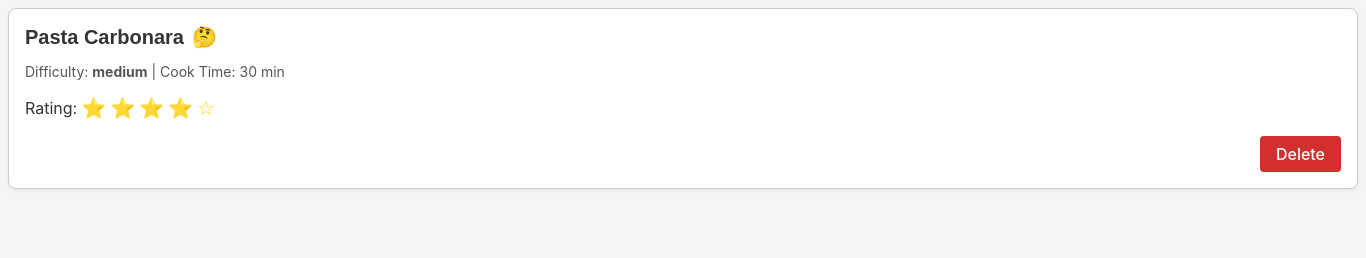
it: RecipeCard › should toggle description on click
Expected: the text "Delicious creamy pasta" is not shown
Click the element that starts with "Pasta Carbonara" at (683,98), box [8, 8, 1358, 189]
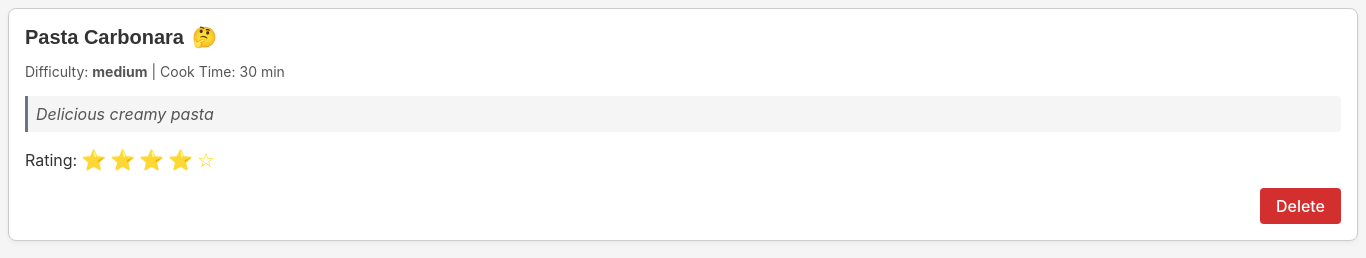
Expected: the text "Delicious creamy pasta" is shown, [25, 96, 1341, 132]
Click the element that starts with "Pasta Carbonara" at (683,227), box [8, 8, 1358, 241]
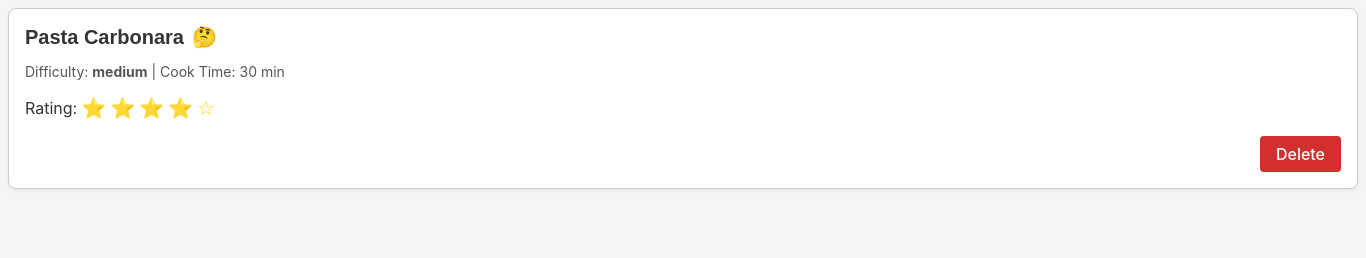
Expected: the text "Delicious creamy pasta" is gone
